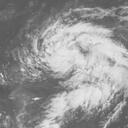cyclone: (37, 23, 127, 110)
